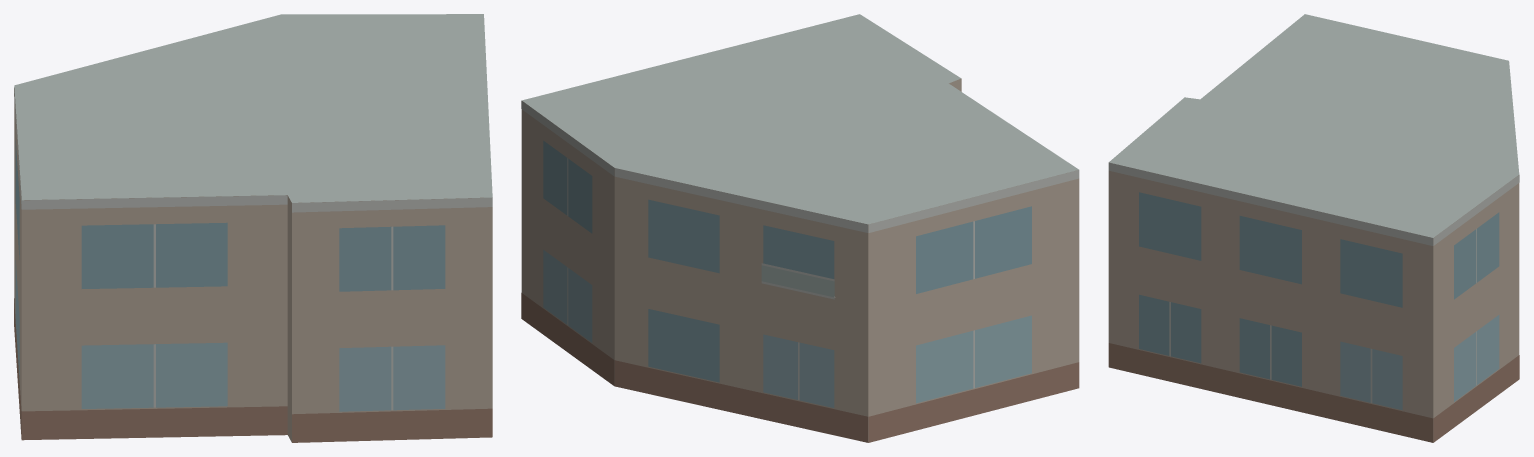
Rendered from survey-upis-32659731.glb.
3 views of the same model, side by side, from view 1: azimuth 30°, elevation 25°; view 2: azimuth 150°, elevation 25°; view 3: azimuth 270°, elevation 25° (orthographic). The views are drawn at different scales.
Visible parts, largest first — view 1: survey-upis-32659731.tmp; view 2: survey-upis-32659731.tmp; view 3: survey-upis-32659731.tmp.
Boxes of the visible parts, left/top/right/bottom form: survey-upis-32659731.tmp: left=14, top=14, right=492, bottom=442; survey-upis-32659731.tmp: left=521, top=14, right=1079, bottom=442; survey-upis-32659731.tmp: left=1108, top=14, right=1519, bottom=442.
Size of the model in its own units: 14.31 by 6.1 by 11.09.
